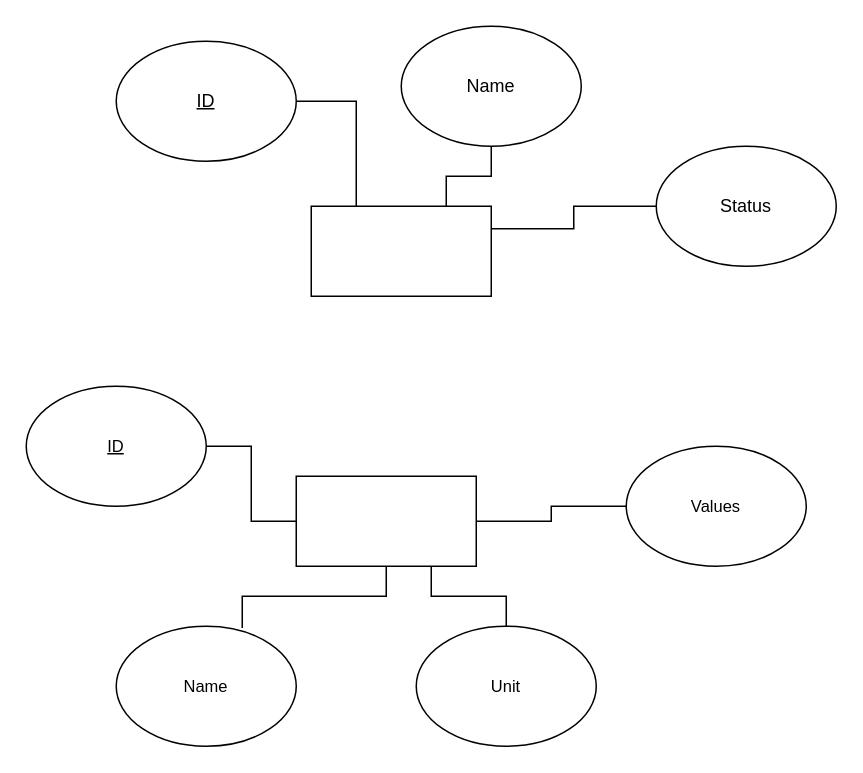
Some shapes in this 863 by 773 pixel diagram are drawn without their labels. The centre of each missing label's shape, as x and y in pixels:
Device: the point at 400,250
Sensor: the point at 385,520
